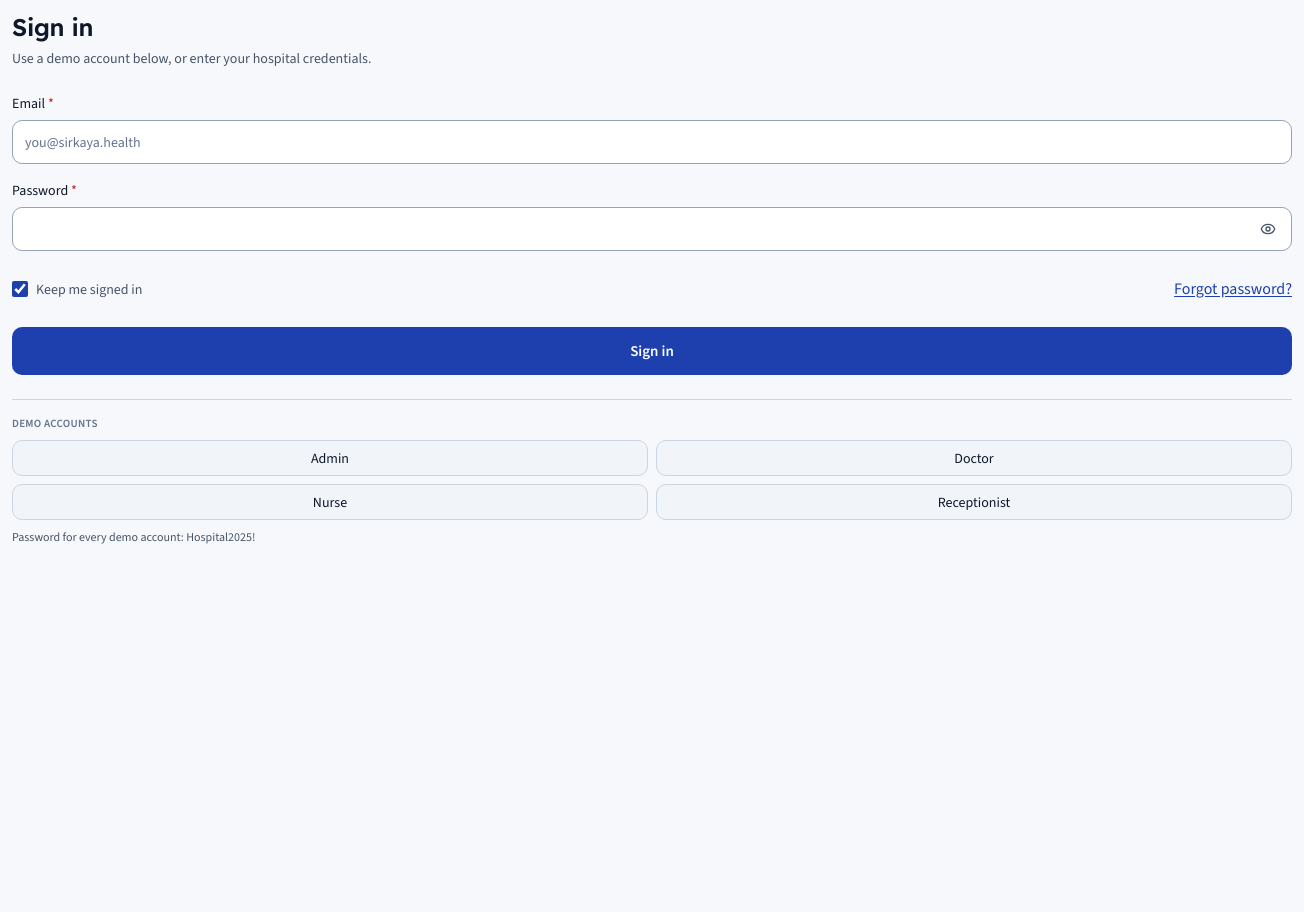
Scenario: SignInPage › surfaces the error envelope on bad credentials
The image size is (1304, 912).
Type "admin@hospital.test" into the field labelled "Email *" at (652, 142), box x1=12 y1=120 x2=1292 y2=164
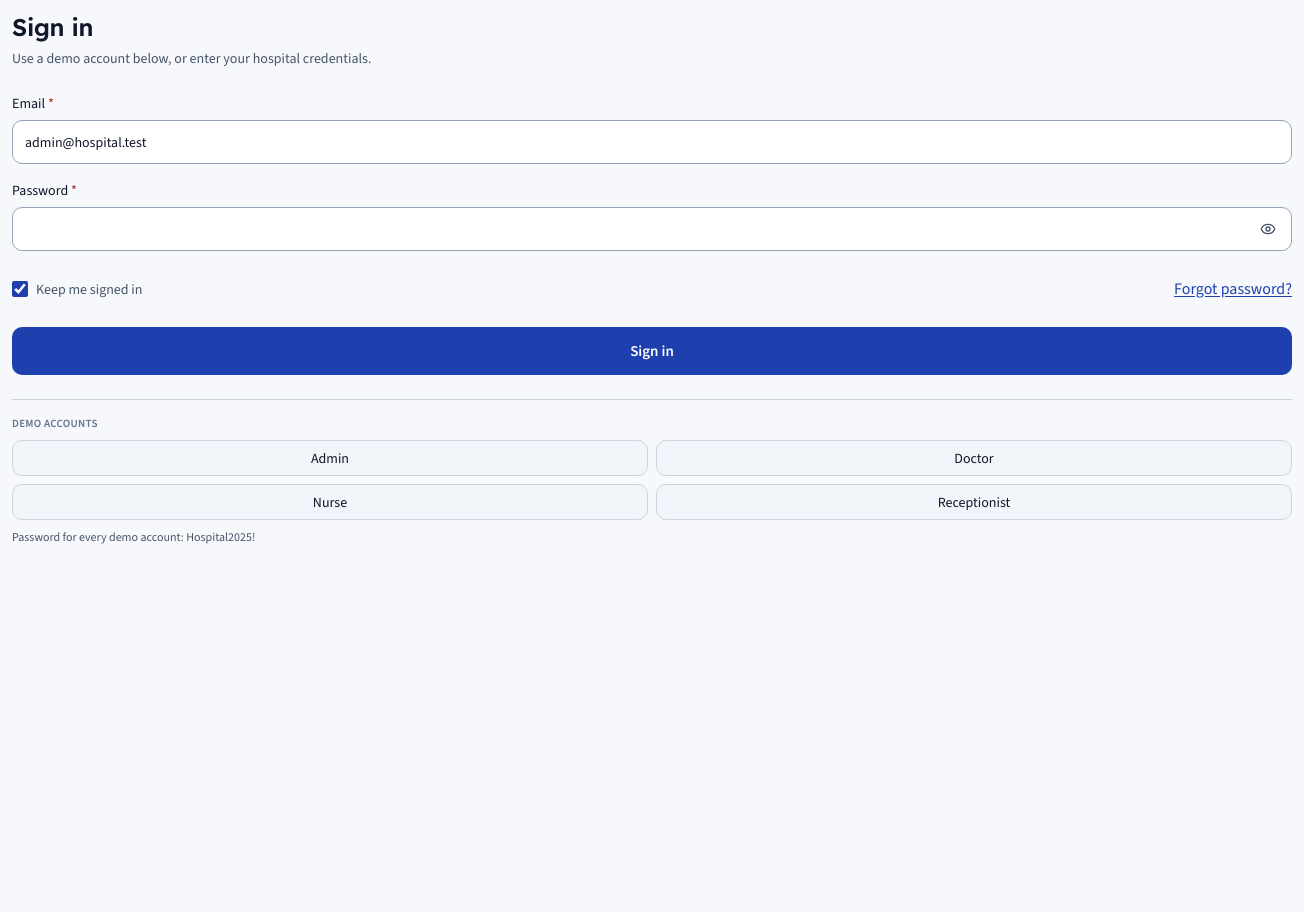
Type "wrong" into the password field labelled "Password *" at (652, 229), box x1=12 y1=207 x2=1292 y2=251
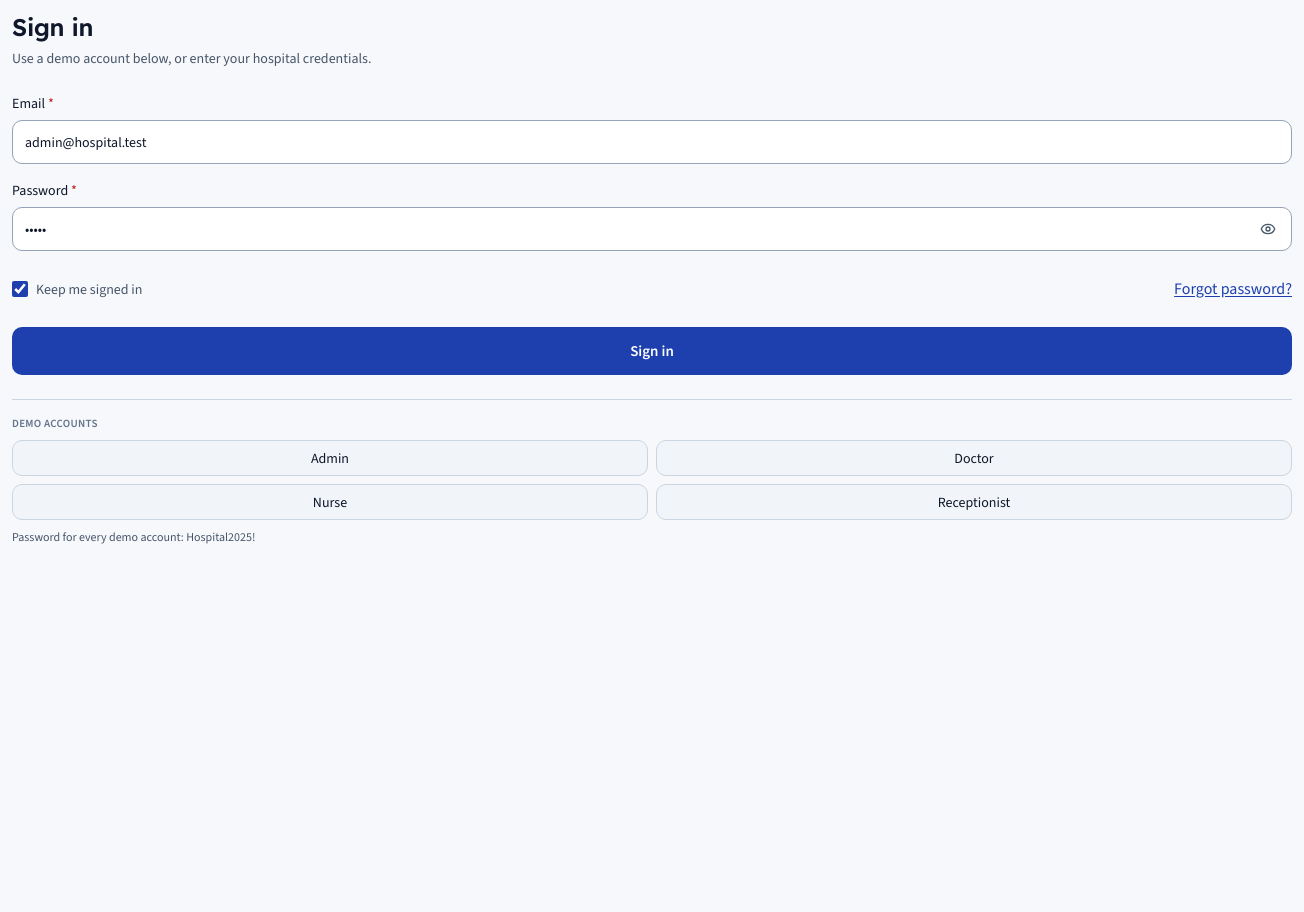
Click the button "Sign in" at (652, 351), box x1=12 y1=327 x2=1292 y2=375
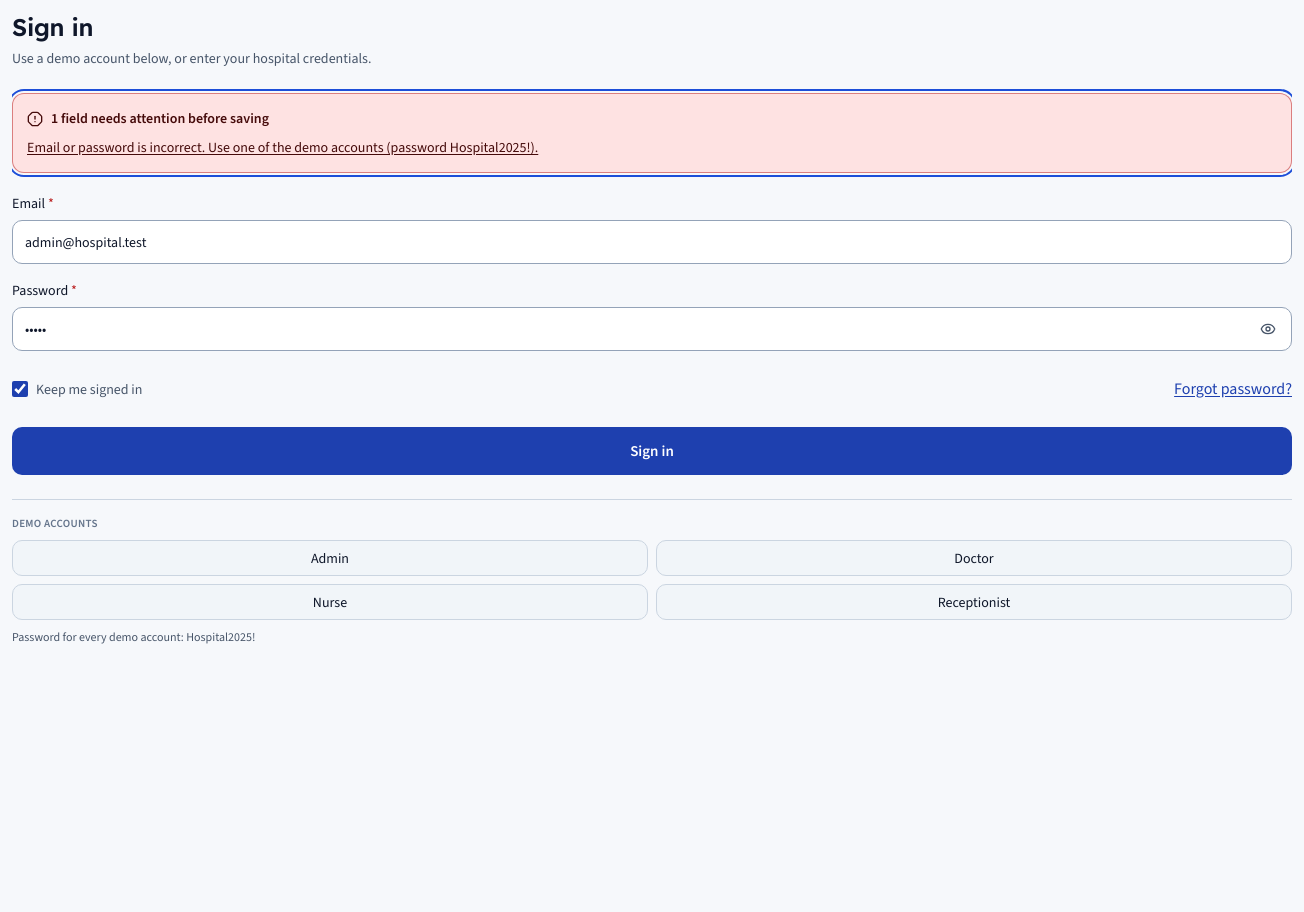
Expected: the message shows "Email or password is incorrect", x1=27 y1=138 x2=538 y2=157
